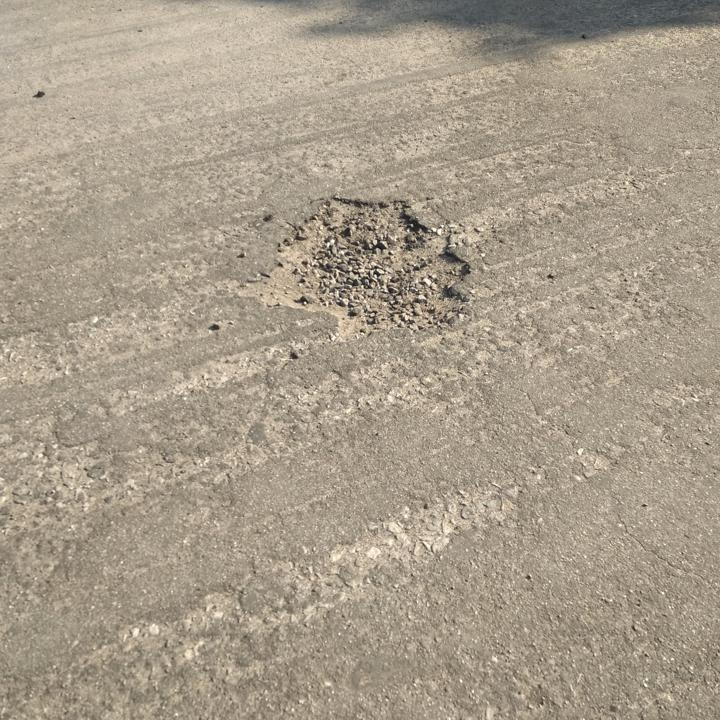pothole: (235, 189, 476, 346)
